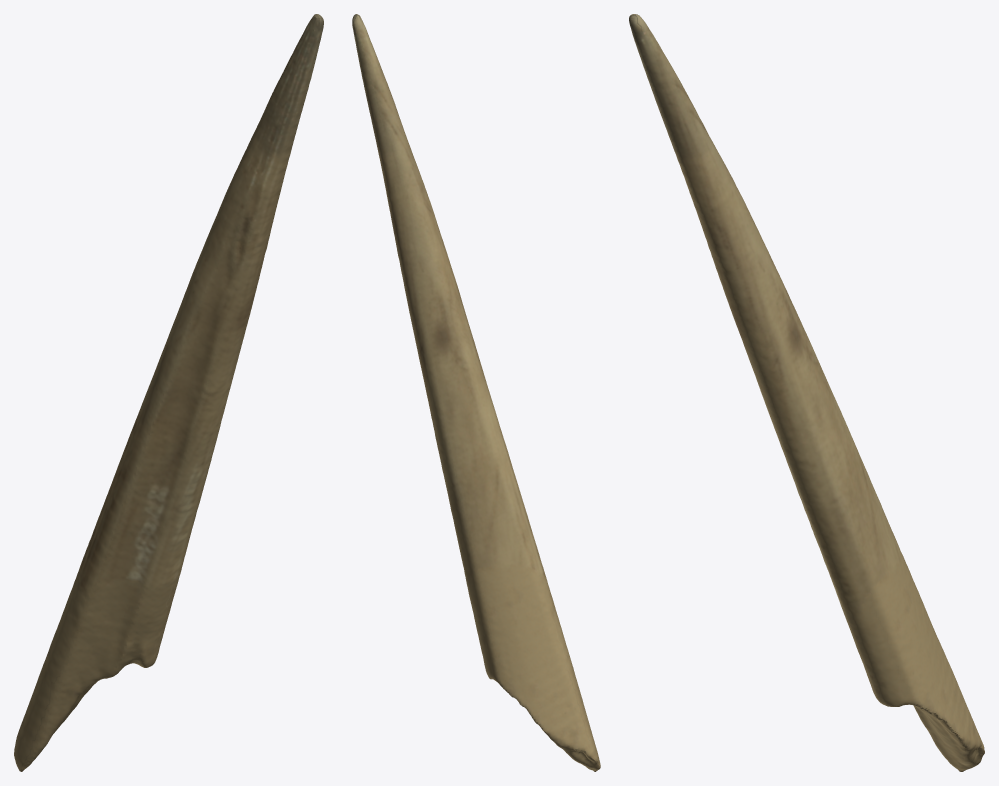
Rendered from awl.glb.
The picture shows the model from 3 angles, left to right: view 1: azimuth 30°, elevation 25°; view 2: azimuth 210°, elevation 25°; view 3: azimuth 270°, elevation 25°; orthographic projection. The views are drawn at different scales.
Parts seen in each view (by area): view 1: Default; view 2: Default; view 3: Default.
Part boxes in pixels (x1,y1,x2,y2): Default: [14, 14, 323, 771]; Default: [352, 14, 600, 771]; Default: [629, 14, 984, 771].
Size of the model in its own units: 13.63 by 81.44 by 32.16.
Materials: 1 (1 with a texture image).
